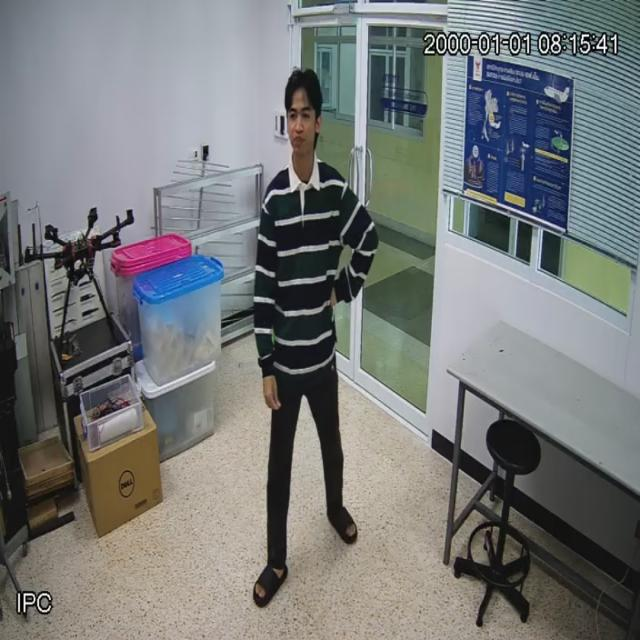normal: (253, 68, 376, 605)
